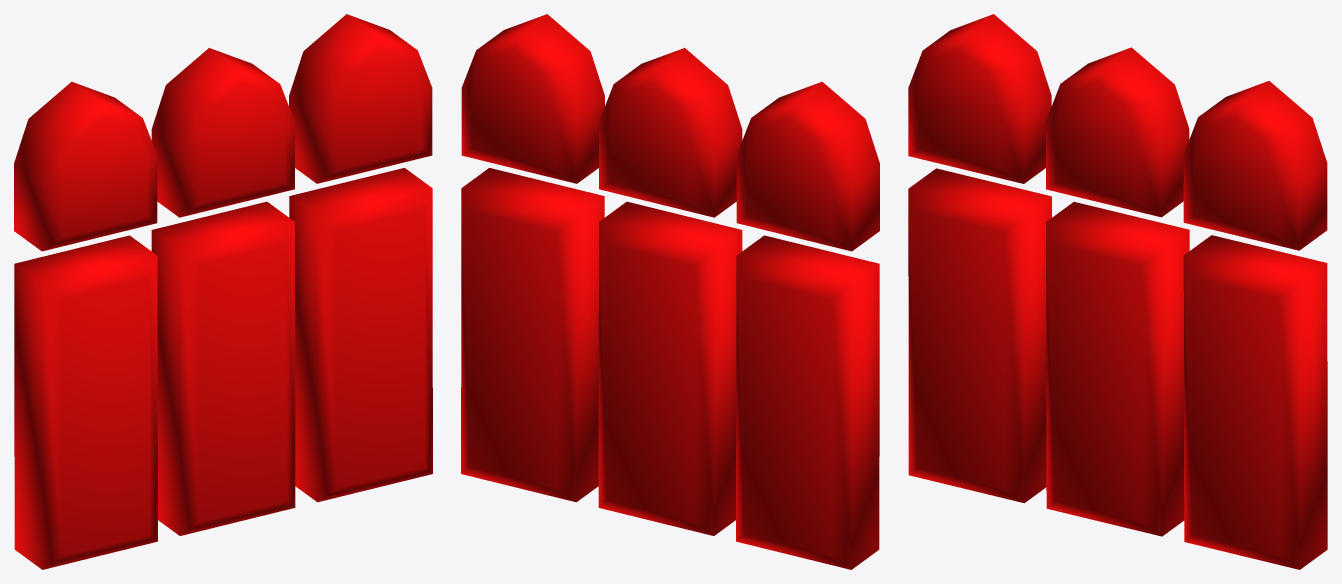
Rendered from Changer_Icon_Gun.fbx.
The picture shows the model from 3 angles, left to right: view 1: azimuth 30°, elevation 25°; view 2: azimuth 150°, elevation 25°; view 3: azimuth 330°, elevation 25°; orthographic projection.
Parts seen in each view (by area): view 1: Changer_Icon_Gun; view 2: Changer_Icon_Gun; view 3: Changer_Icon_Gun.
Boxes of the visible parts, box(x1,y1,x2,y2) form: Changer_Icon_Gun: box(14, 14, 432, 569); Changer_Icon_Gun: box(461, 14, 879, 569); Changer_Icon_Gun: box(908, 14, 1327, 569).
Size of the model in its own units: 72.21 by 80.2 by 12.6.
1 material, 1 textured.
